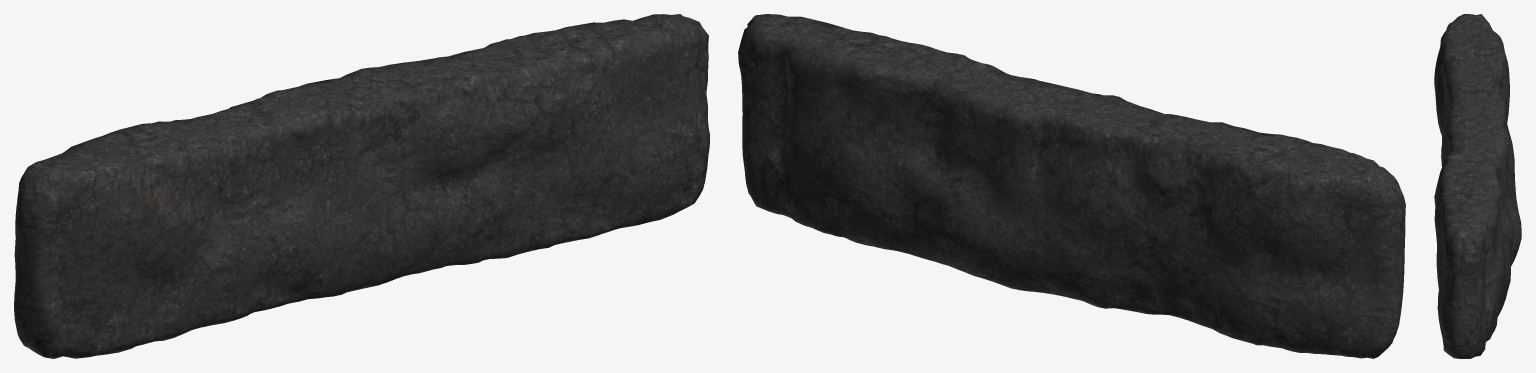
The model's file is CaveWalls4_A.obj.
The picture shows the model from 3 angles, left to right: view 1: azimuth 30°, elevation 25°; view 2: azimuth 150°, elevation 25°; view 3: azimuth 270°, elevation 25°; orthographic projection. The views are drawn at different scales.
Visible parts, largest first — view 1: CaveWalls4A; view 2: CaveWalls4A; view 3: CaveWalls4A.
Part boxes in pixels (x1=…): CaveWalls4A: x1=14, y1=14, x2=709, y2=358; CaveWalls4A: x1=738, y1=14, x2=1405, y2=358; CaveWalls4A: x1=1434, y1=14, x2=1521, y2=358.
Size of the model in its own units: 131 by 34.56 by 20.91.
Materials: 1 (1 with a texture image).
